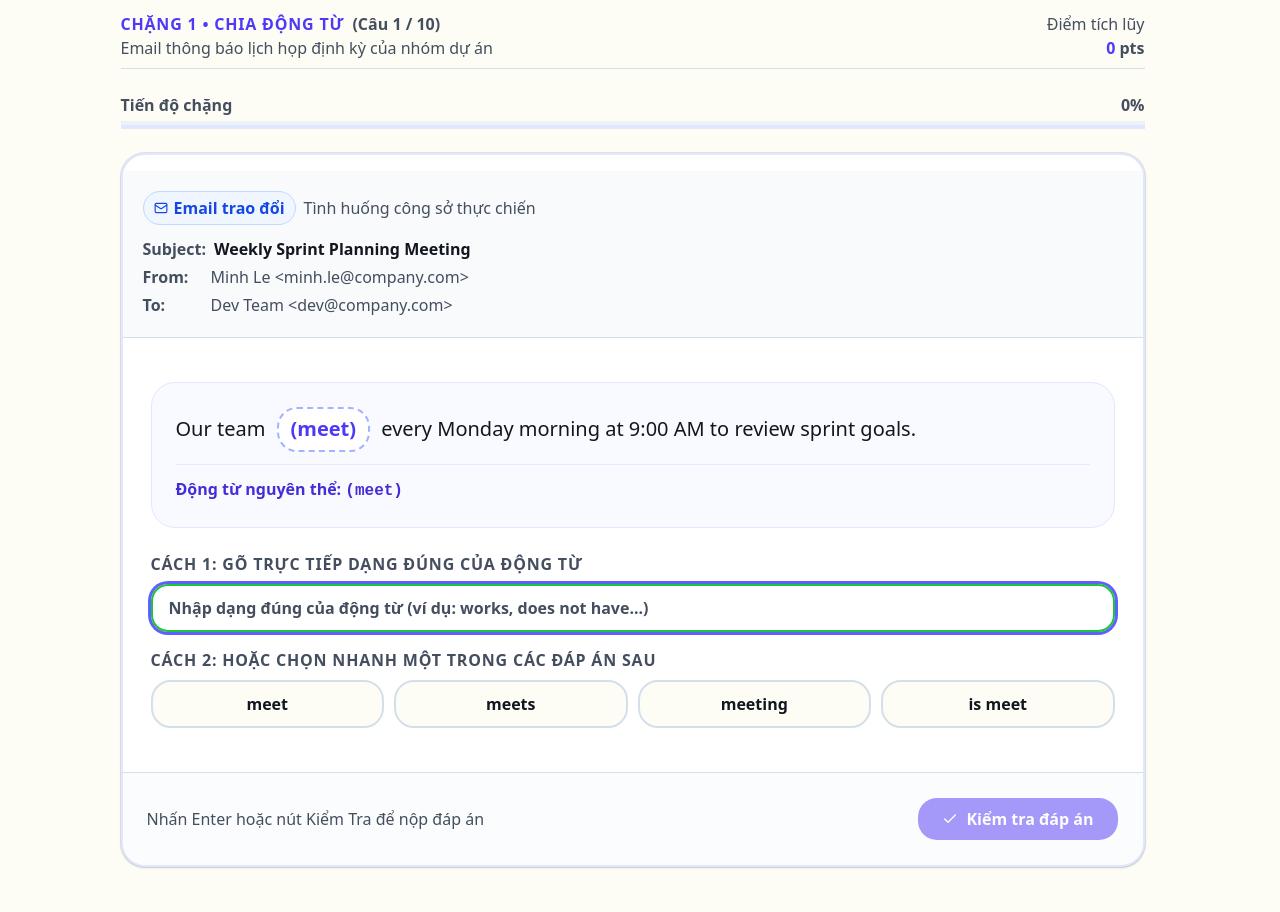
ConjugationStage (Stage 1) › enables Submit button when selecting a multiple-choice option
Click the button "meets": {"x": 511, "y": 704} [394,680,628,728]
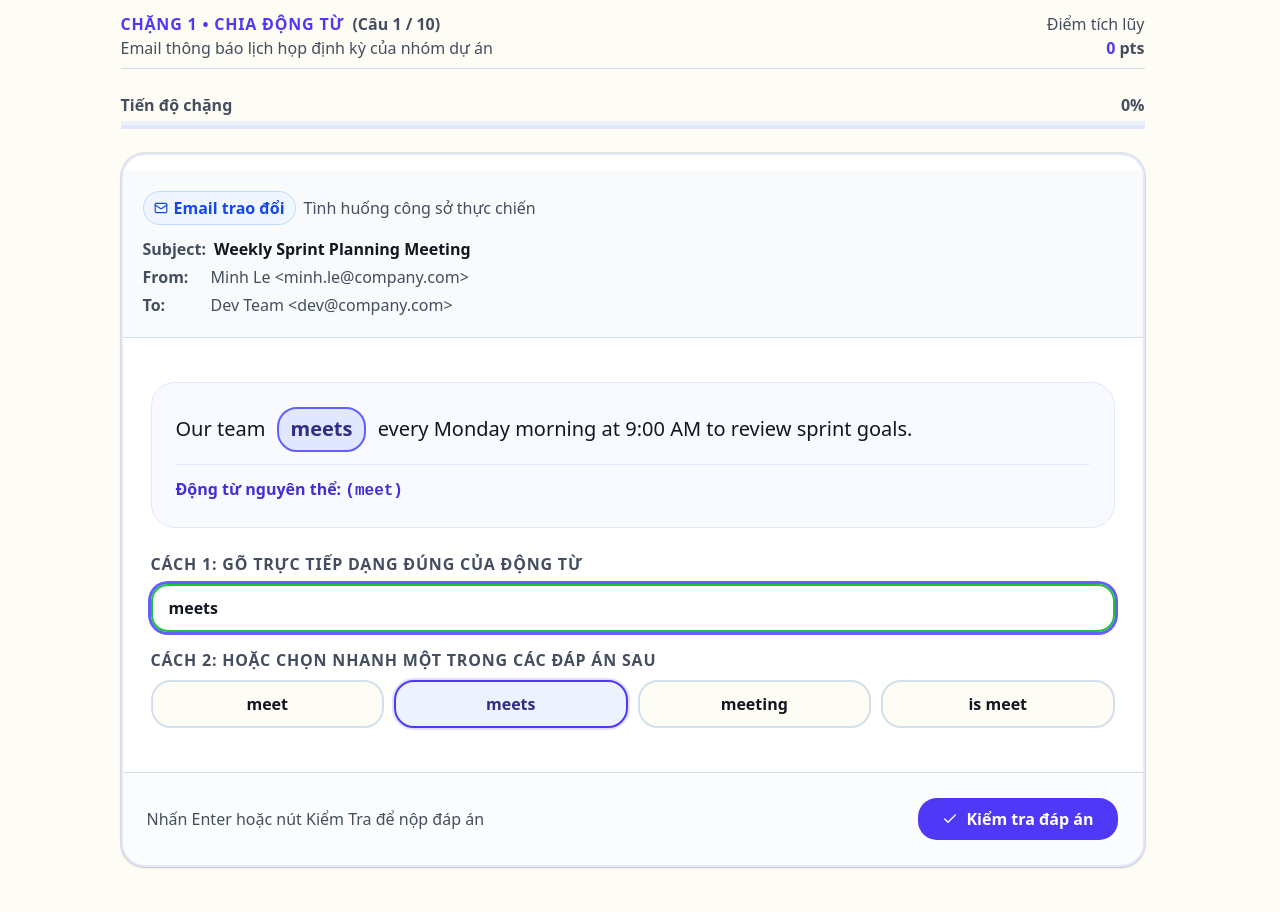
Expected: the button "Kiểm tra đáp án" is enabled, [917,796,1118,840]
